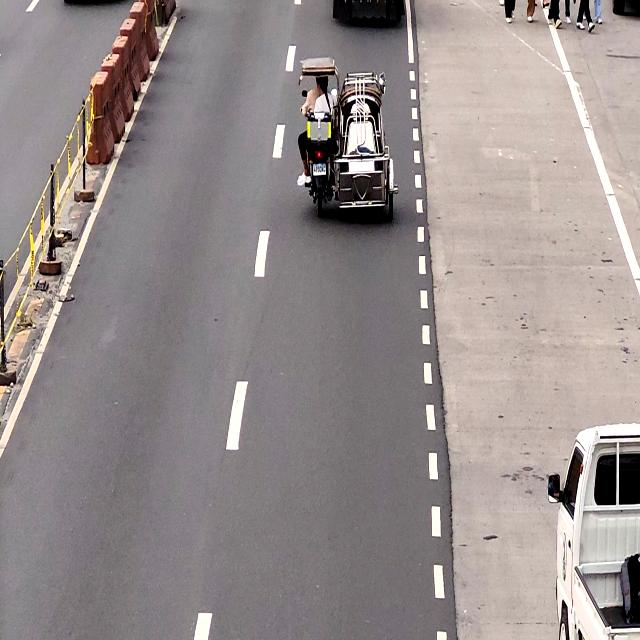Car: (553, 431, 640, 640)
License-Plate: (310, 163, 328, 176)
Tricycle: (296, 55, 394, 220)
